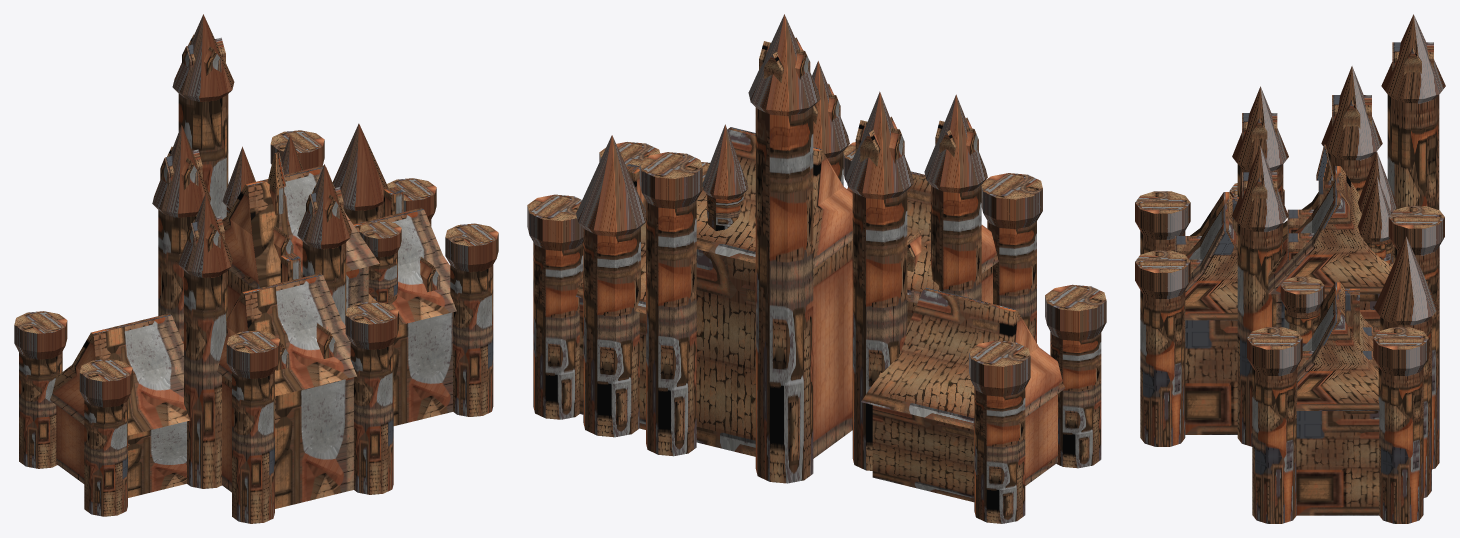
The model's file is sb_obj_outdoor001_Castle01_col.fbx.
The picture shows the model from 3 angles, left to right: view 1: azimuth 30°, elevation 25°; view 2: azimuth 150°, elevation 25°; view 3: azimuth 270°, elevation 25°; orthographic projection. The views are drawn at different scales.
Parts seen in each view (by area): view 1: sb_obj_outdoor001_Castle01_col; view 2: sb_obj_outdoor001_Castle01_col; view 3: sb_obj_outdoor001_Castle01_col.
Boxes of the visible parts, box(x1,y1,x2,y2) form: sb_obj_outdoor001_Castle01_col: box(14, 14, 498, 523); sb_obj_outdoor001_Castle01_col: box(527, 14, 1106, 523); sb_obj_outdoor001_Castle01_col: box(1135, 14, 1445, 523).
Size of the model in its own units: 35.26 by 31.75 by 22.2.
